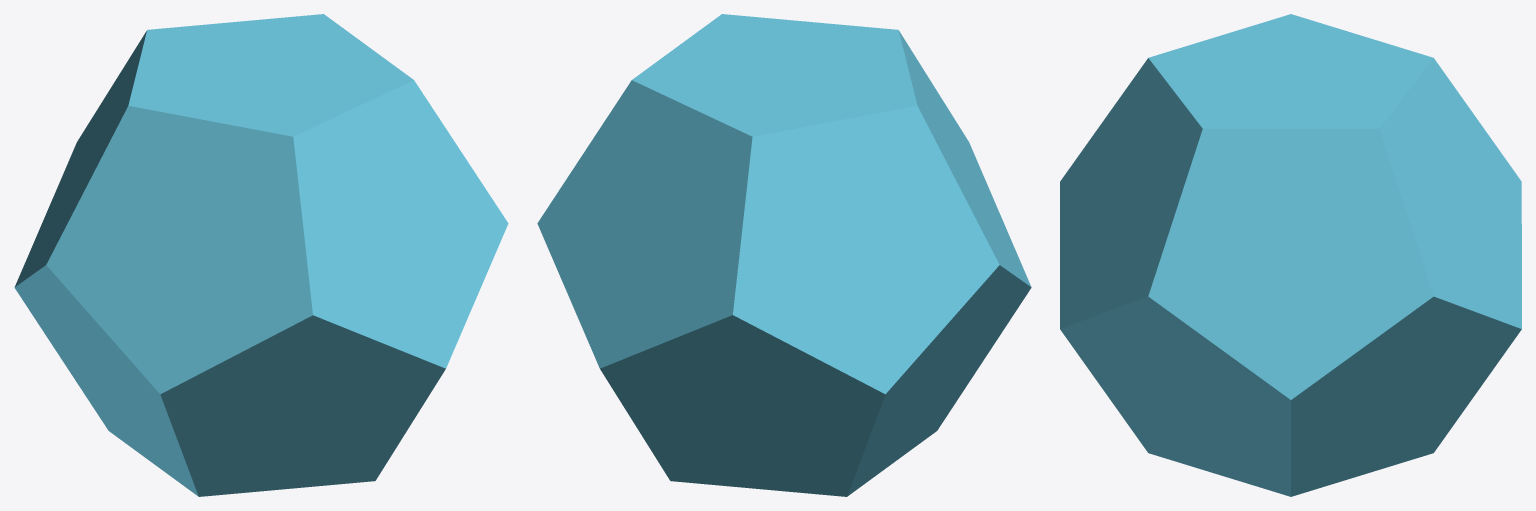
The model's file is Dodecahedron.glb.
3 renders of one model, left to right at view 1: azimuth 30°, elevation 25°; view 2: azimuth 150°, elevation 25°; view 3: azimuth 270°, elevation 25°, orthographic. The views are drawn at different scales.
Parts seen in each view (by area): view 1: Dodecahedron; view 2: Dodecahedron; view 3: Dodecahedron.
Part boxes in pixels (x1,y1,x2,y2): Dodecahedron: (14,14,508,496); Dodecahedron: (537,14,1031,496); Dodecahedron: (1060,14,1521,496).
Size of the model in its own units: 0.5695 by 0.4608 by 0.5416.
